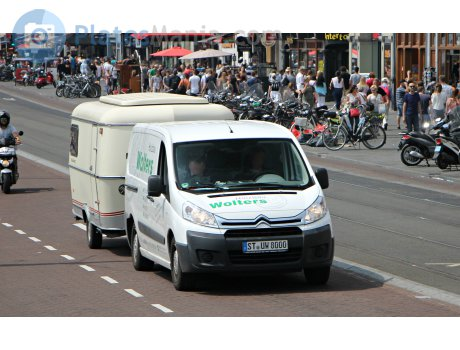License Plates: (249, 239, 287, 247)
